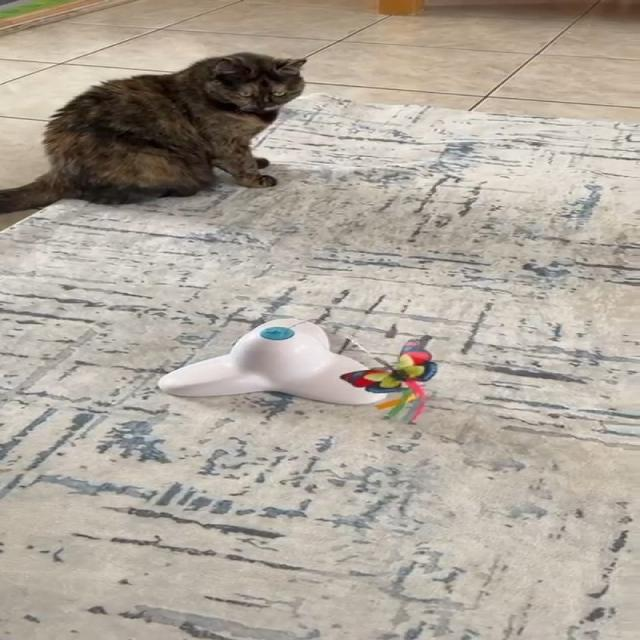authorized: (0, 50, 307, 214)
